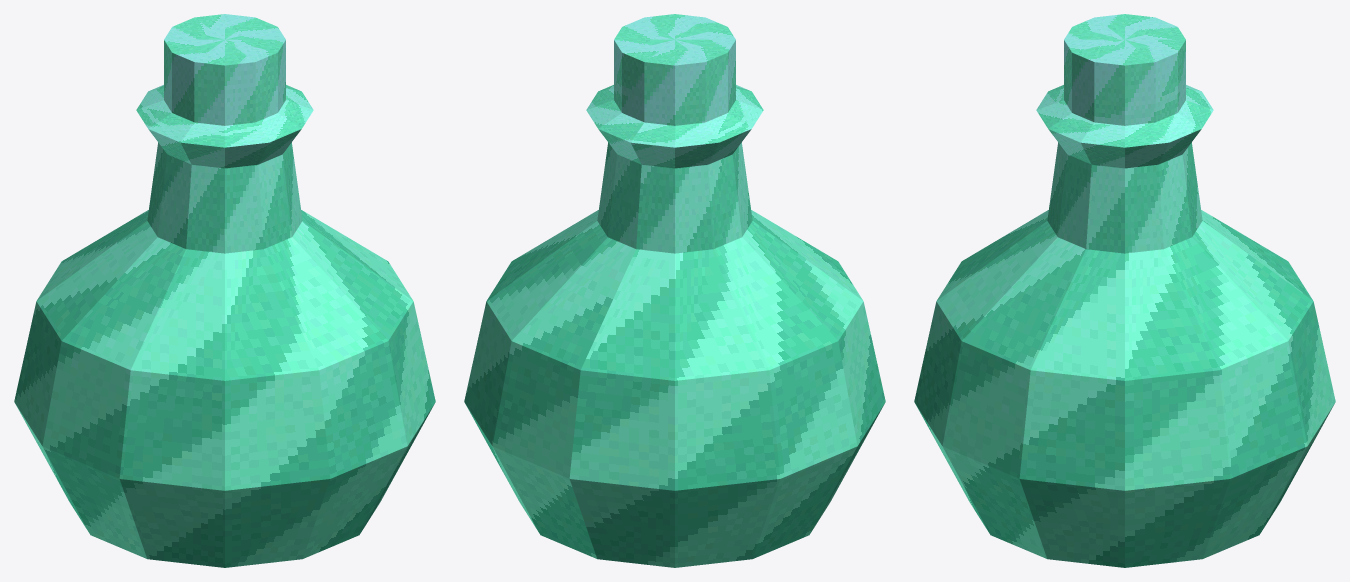
Rendered from extrato_de_cogumelo_brilhante.glb.
The picture shows the model from 3 angles, left to right: view 1: azimuth 30°, elevation 25°; view 2: azimuth 150°, elevation 25°; view 3: azimuth 270°, elevation 25°; orthographic projection.
Visible parts, largest first — view 1: extrato_de_cogumelo_brilhante; view 2: extrato_de_cogumelo_brilhante; view 3: extrato_de_cogumelo_brilhante.
Boxes of the visible parts, x1=… form: extrato_de_cogumelo_brilhante: x1=14, y1=14, x2=435, y2=567; extrato_de_cogumelo_brilhante: x1=464, y1=14, x2=885, y2=567; extrato_de_cogumelo_brilhante: x1=914, y1=14, x2=1335, y2=567.
Size of the model in its own units: 0.1824 by 0.2304 by 0.1824.
Materials: 1 (1 with a texture image).
